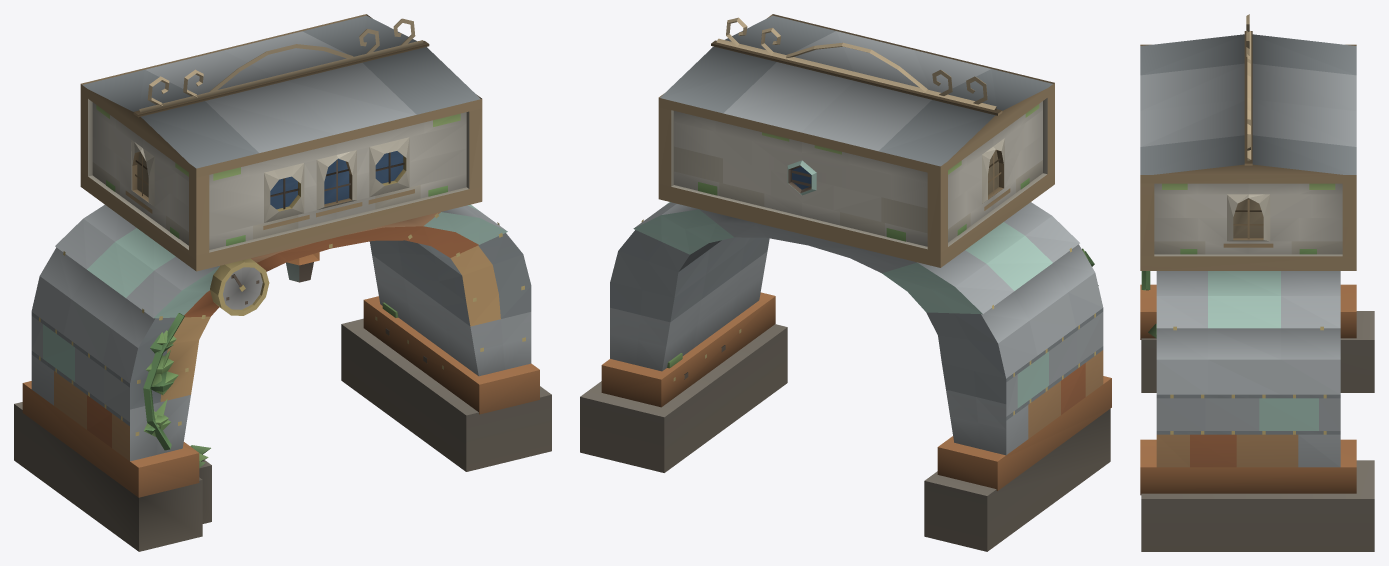
The model's file is gate.glb.
The picture shows the model from 3 angles, left to right: view 1: azimuth 30°, elevation 25°; view 2: azimuth 150°, elevation 25°; view 3: azimuth 270°, elevation 25°; orthographic projection. The views are drawn at different scales.
Parts seen in each view (by area): view 1: gate.001; view 2: gate.001; view 3: gate.001.
Part boxes in pixels (x1,y1,x2,y2): gate.001: (14, 14, 551, 551); gate.001: (580, 14, 1111, 551); gate.001: (1140, 14, 1374, 551).
Size of the model in its own units: 9.48 by 9.07 by 4.98.
